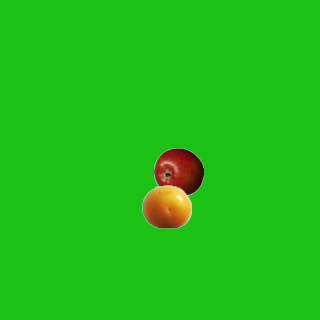Apple Braeburn: (153, 147, 203, 197)
Cherry Wax Yellow: (141, 181, 191, 231)
